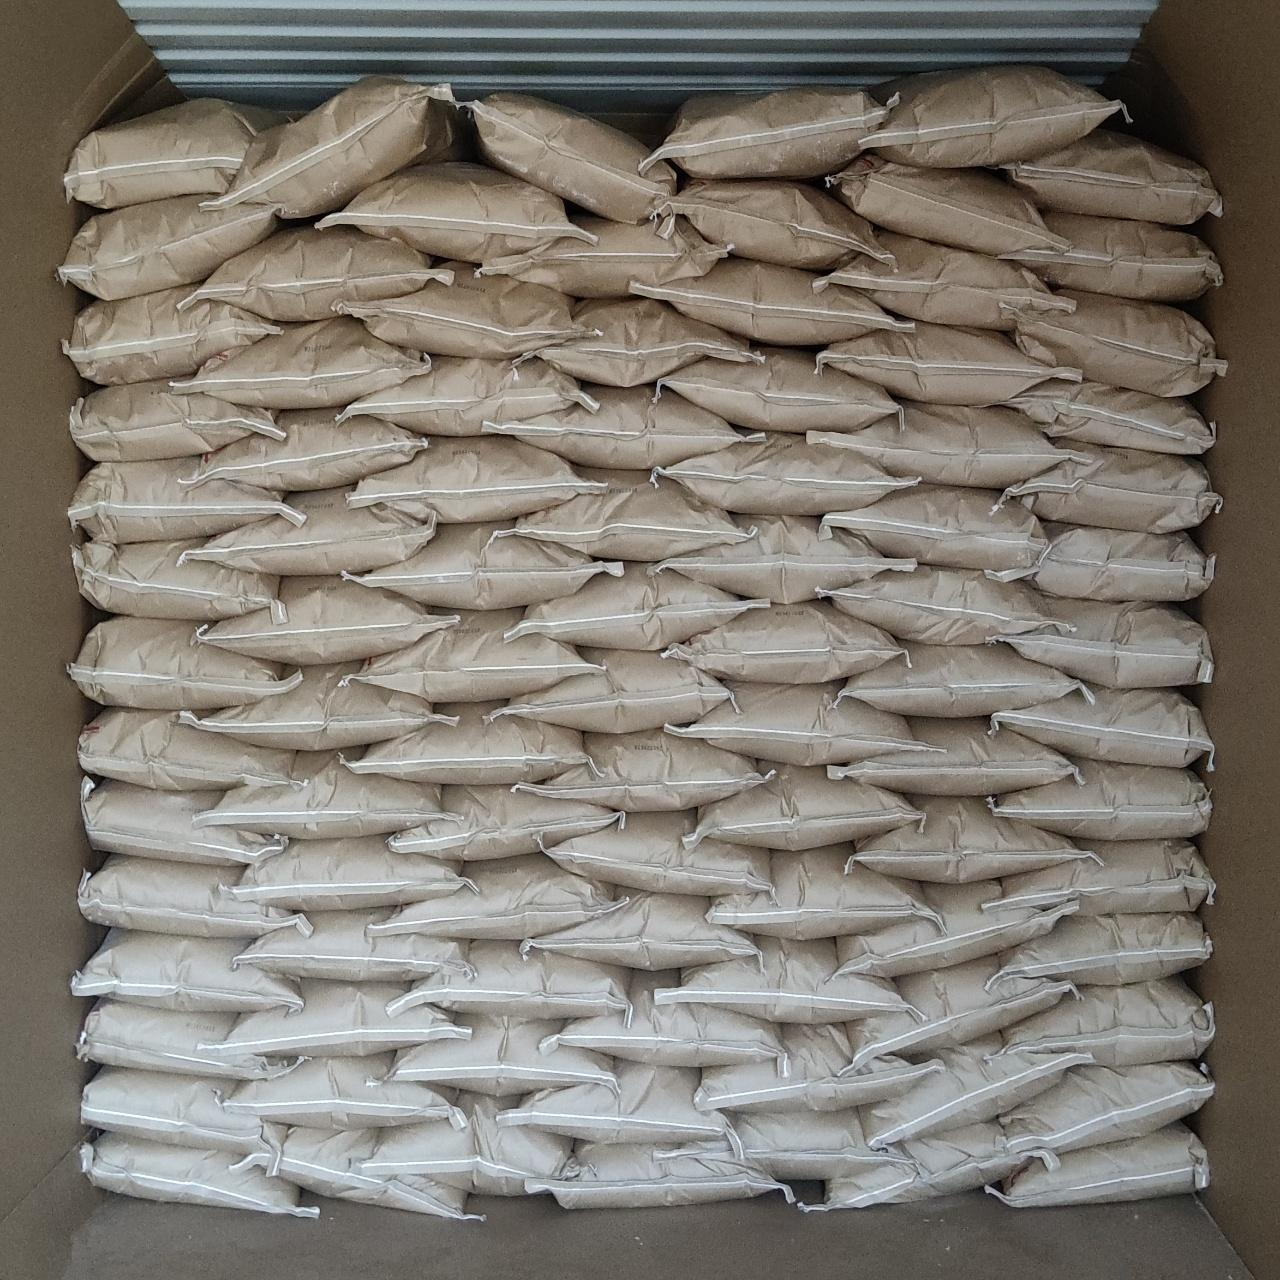sack: (212, 79, 470, 216), (467, 94, 676, 222), (318, 162, 580, 263), (860, 66, 1122, 166), (864, 1034, 1090, 1144), (808, 402, 1099, 486), (846, 956, 1074, 1064), (64, 100, 292, 206), (821, 232, 1070, 328), (826, 154, 1056, 258), (195, 224, 450, 318), (181, 662, 452, 750), (629, 258, 908, 342), (797, 1121, 1058, 1210), (352, 522, 622, 606), (342, 264, 584, 358), (654, 937, 918, 1022), (644, 88, 886, 181), (835, 880, 1074, 974), (546, 971, 779, 1065), (360, 610, 598, 702), (178, 318, 428, 406), (1016, 290, 1226, 394), (490, 386, 756, 468), (198, 578, 456, 662), (656, 516, 914, 600), (241, 1126, 478, 1218), (816, 322, 1076, 404), (57, 198, 278, 294), (190, 488, 434, 574), (368, 1092, 572, 1196), (510, 566, 765, 648), (506, 470, 744, 558), (200, 750, 438, 838), (515, 300, 758, 386), (1000, 128, 1220, 222), (66, 286, 280, 382), (352, 438, 602, 520), (696, 1024, 937, 1110), (70, 618, 298, 708), (670, 682, 915, 764), (656, 434, 912, 512), (712, 844, 926, 937), (476, 216, 728, 294), (340, 356, 595, 434), (660, 181, 880, 270), (660, 348, 898, 430), (80, 1132, 318, 1214), (522, 730, 765, 810), (70, 458, 302, 542), (688, 764, 918, 847), (382, 856, 614, 938), (343, 704, 588, 782), (188, 410, 424, 490), (666, 602, 903, 682), (498, 651, 731, 731), (850, 796, 1080, 878), (72, 930, 300, 1012), (544, 812, 772, 894), (1000, 1062, 1212, 1150), (224, 978, 468, 1054), (828, 719, 1074, 794), (821, 484, 1046, 566), (1002, 445, 1220, 530), (226, 836, 472, 910), (1000, 976, 1212, 1062), (838, 642, 1090, 714), (80, 856, 302, 937), (82, 1065, 280, 1156), (392, 942, 629, 1017), (1026, 212, 1223, 302), (828, 566, 1068, 640), (990, 1124, 1206, 1206), (502, 1064, 730, 1142), (1006, 600, 1212, 686), (80, 710, 300, 790), (80, 1000, 302, 1078), (224, 1054, 464, 1126), (524, 892, 758, 966), (84, 778, 286, 864), (990, 760, 1210, 838), (390, 1017, 614, 1094), (392, 787, 622, 860), (992, 688, 1212, 765), (986, 840, 1214, 914), (72, 380, 282, 459), (234, 910, 472, 980), (76, 540, 282, 620), (990, 524, 1212, 598), (532, 1144, 792, 1206), (663, 1110, 900, 1178), (1012, 380, 1214, 454), (998, 914, 1210, 982)
